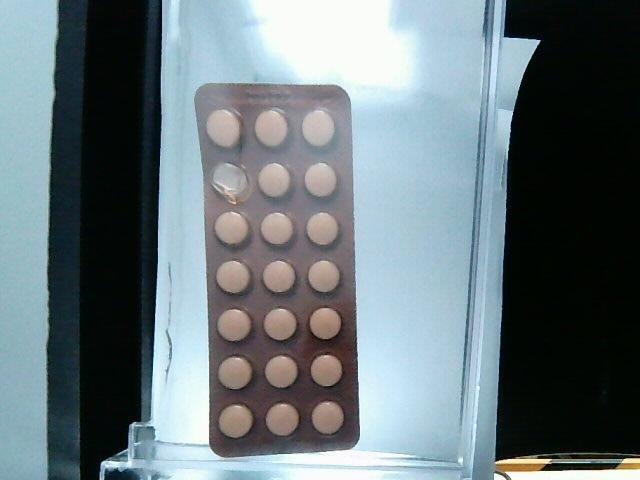Light Front: (193, 83, 361, 460)
No Pill Front: (208, 158, 250, 205)
Pill Front: (213, 258, 255, 305), (251, 110, 294, 155), (214, 400, 259, 443), (204, 106, 245, 153), (299, 109, 342, 151), (213, 206, 253, 249), (261, 306, 301, 347), (306, 305, 346, 345), (304, 259, 346, 297), (263, 403, 304, 440), (260, 355, 302, 391), (218, 306, 255, 346), (256, 163, 293, 201), (260, 210, 298, 247), (261, 259, 299, 296), (309, 353, 346, 391), (216, 356, 256, 391), (305, 161, 341, 198), (306, 211, 342, 248), (309, 403, 349, 436)
